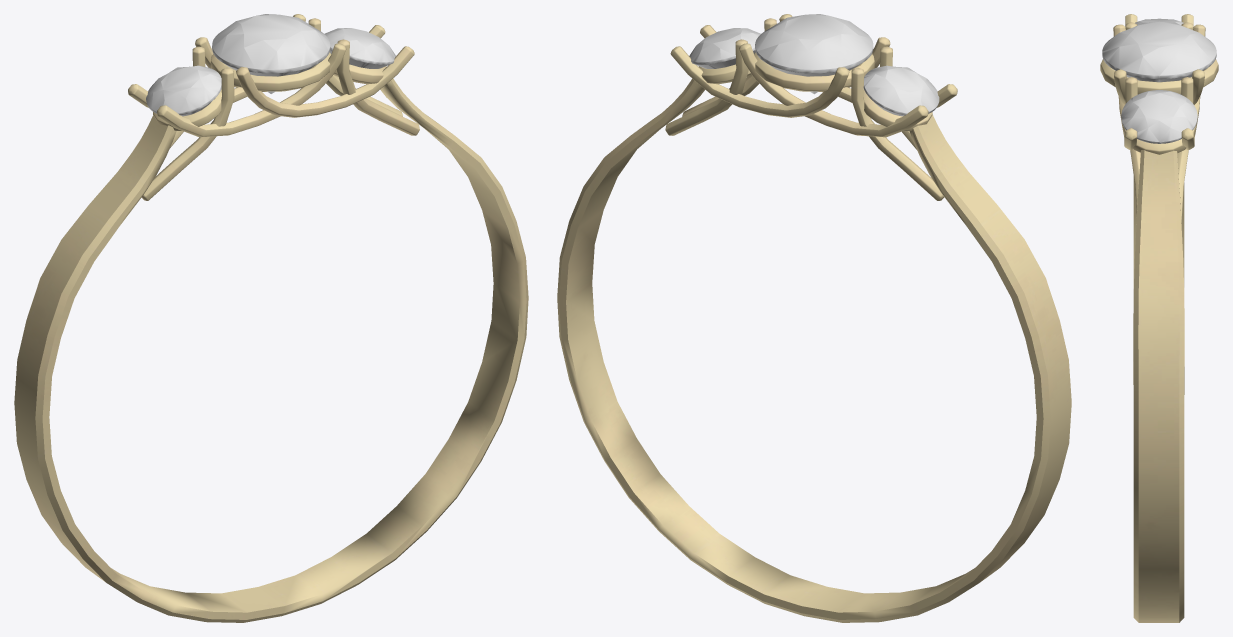
3 renders of one model, left to right at view 1: azimuth 30°, elevation 25°; view 2: azimuth 150°, elevation 25°; view 3: azimuth 270°, elevation 25°, orthographic. The views are drawn at different scales.
Parts seen in each view (by area): view 1: ring_02_mesh, decoration_02_002_mesh, jewels_02_big_mesh, jewels_02_small_002_mesh, jewels_02_small_001_mesh, decoration_02_003_mesh; view 2: ring_02_mesh, decoration_02_002_mesh, jewels_02_big_mesh, jewels_02_small_002_mesh, jewels_02_small_001_mesh, decoration_02_003_mesh, decoration_02_005_mesh; view 3: ring_02_mesh, jewels_02_big_mesh, jewels_02_small_001_mesh, decoration_02_002_mesh, decoration_02_003_mesh, decoration_02_004_mesh.
Part boxes in pixels (x1=…): ring_02_mesh: x1=14, y1=78, x2=528, y2=622; decoration_02_002_mesh: x1=128, y1=14, x2=419, y2=200; jewels_02_big_mesh: x1=212, y1=14, x2=330, y2=93; jewels_02_small_002_mesh: x1=146, y1=65, x2=221, y2=116; jewels_02_small_001_mesh: x1=324, y1=28, x2=395, y2=68; decoration_02_003_mesh: x1=210, y1=52, x2=331, y2=91; ring_02_mesh: x1=557, y1=78, x2=1071, y2=622; decoration_02_002_mesh: x1=665, y1=14, x2=957, y2=200; jewels_02_big_mesh: x1=755, y1=14, x2=873, y2=94; jewels_02_small_002_mesh: x1=863, y1=65, x2=939, y2=116; jewels_02_small_001_mesh: x1=689, y1=28, x2=760, y2=68; decoration_02_003_mesh: x1=754, y1=52, x2=874, y2=91; decoration_02_005_mesh: x1=863, y1=89, x2=932, y2=131; ring_02_mesh: x1=1133, y1=150, x2=1184, y2=622; jewels_02_big_mesh: x1=1102, y1=21, x2=1216, y2=82; jewels_02_small_001_mesh: x1=1121, y1=90, x2=1197, y2=143; decoration_02_002_mesh: x1=1113, y1=14, x2=1205, y2=222; decoration_02_003_mesh: x1=1100, y1=59, x2=1218, y2=94; decoration_02_004_mesh: x1=1123, y1=127, x2=1195, y2=154.
Size of the model in its own units: 0.0238 by 0.0268 by 0.00511.
Materials: 1 (1 with a texture image).
